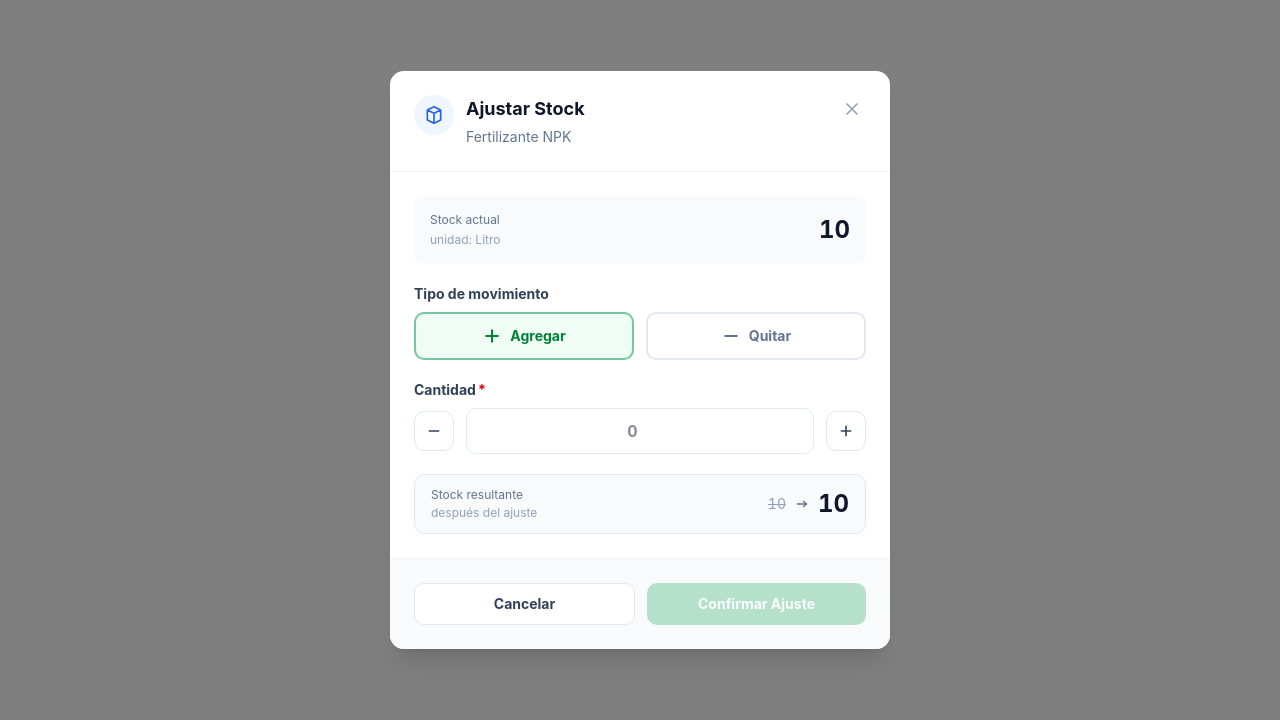
AjustarStockModal › removes a valid quantity
Click the button "Quitar". click: [756, 336]
box: [646, 312, 866, 360]
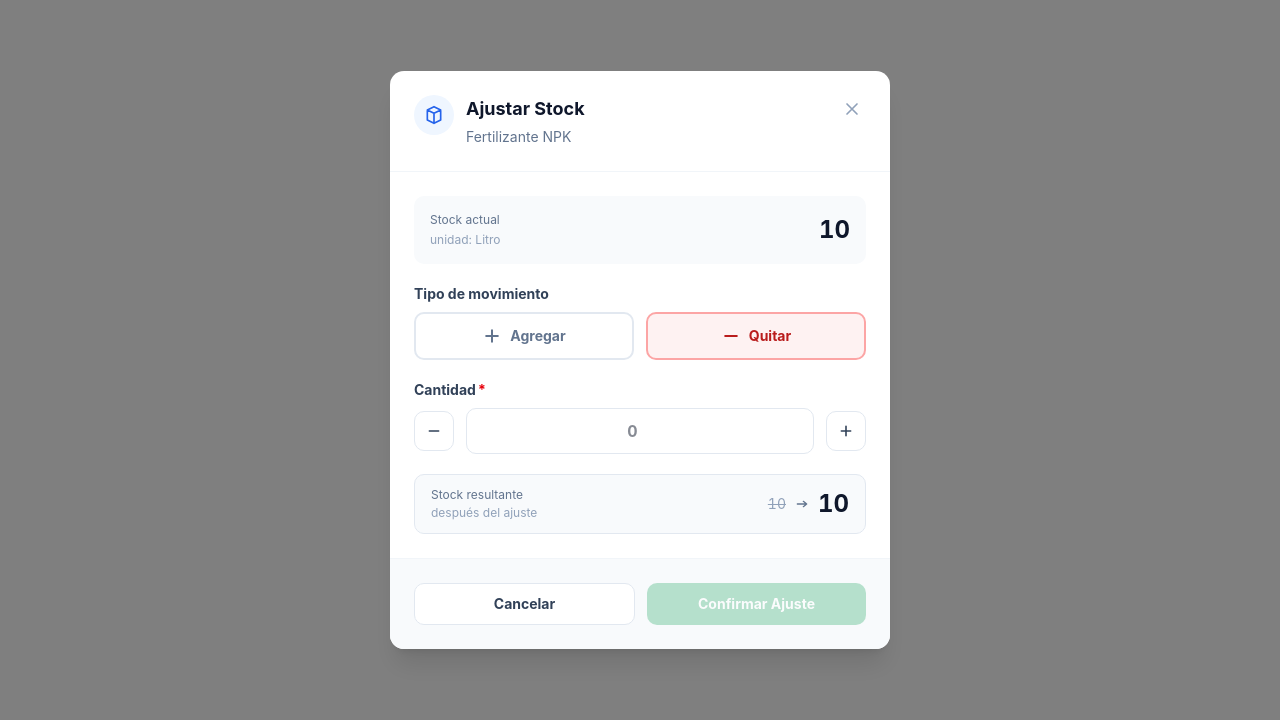
Type "3" into the number field. click: [640, 431]
box: [466, 408, 814, 454]
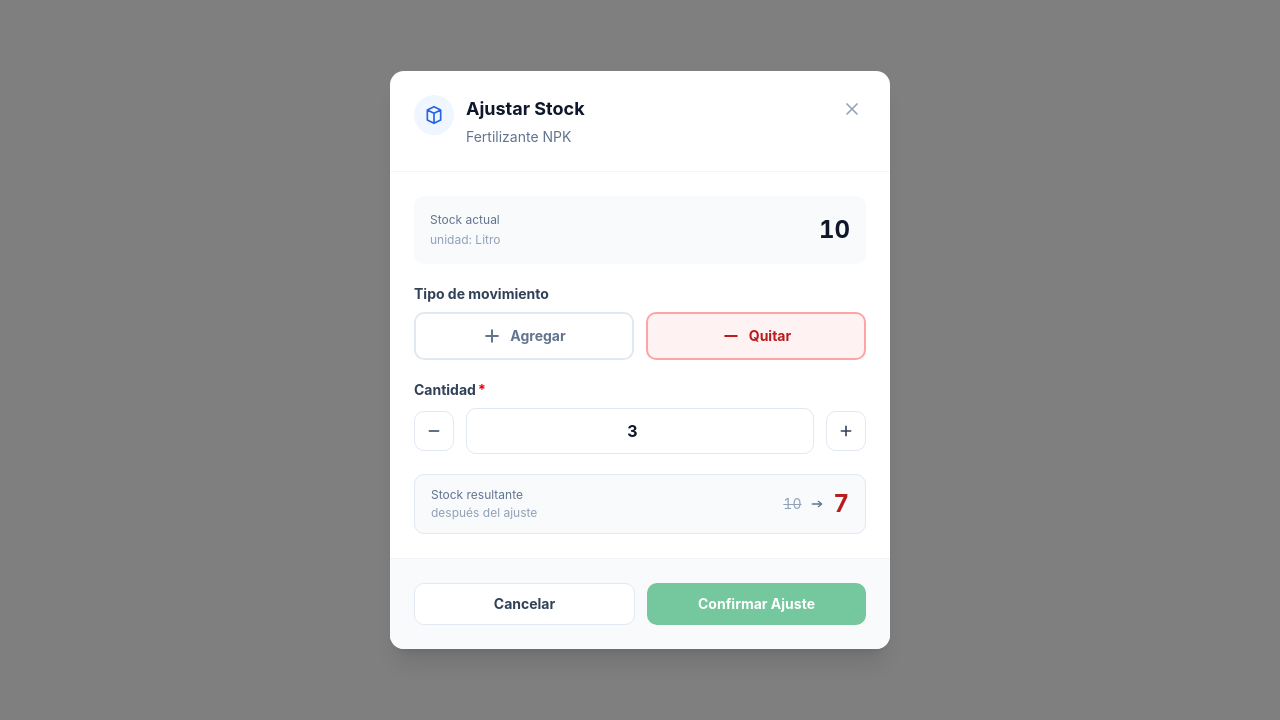
Expected: the text "7" is shown, [834, 488, 849, 520]
Expected: the button "Confirmar Ajuste" is enabled, [647, 583, 866, 625]
